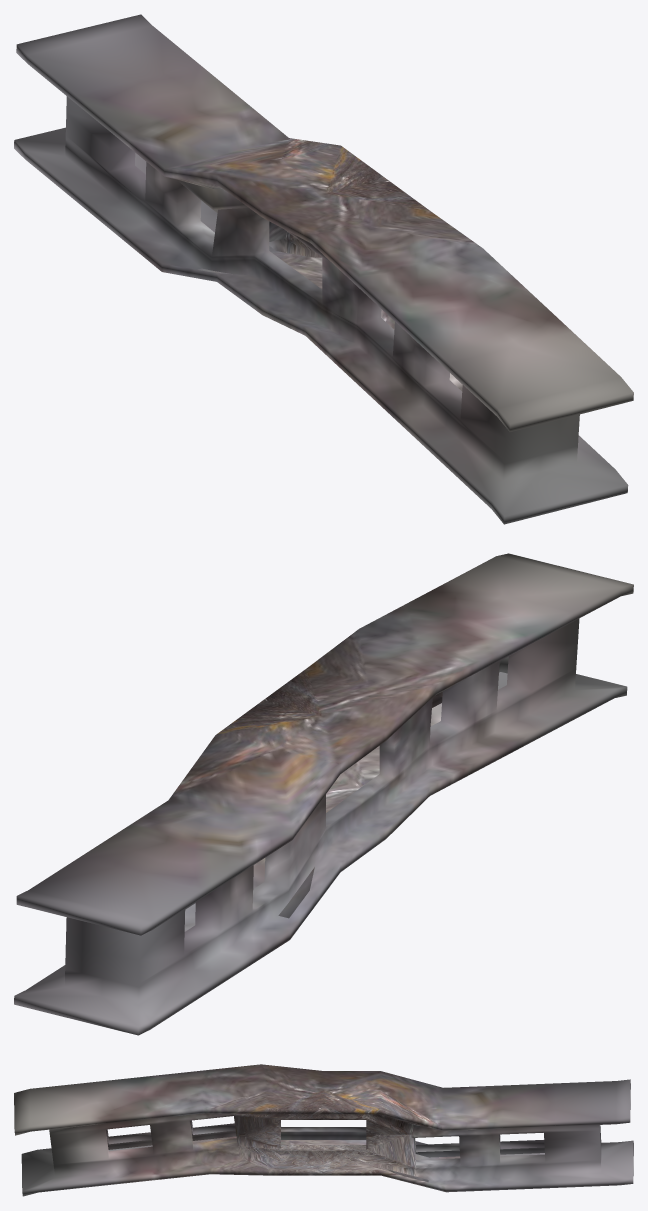
Rendered from metal4.fbx.
3 views of the same model, one above another, from view 1: azimuth 30°, elevation 25°; view 2: azimuth 150°, elevation 25°; view 3: azimuth 270°, elevation 25° (orthographic). The views are drawn at different scales.
Parts seen in each view (by area): view 1: Cube; view 2: Cube; view 3: Cube.
Part boxes in pixels (x1=…): Cube: x1=14, y1=14, x2=633, y2=524; Cube: x1=14, y1=553, x2=633, y2=1035; Cube: x1=14, y1=1064, x2=633, y2=1196.
Bounding box in the file's own units: 1.08 × 1.21 × 7.23.
Materials: 1 (1 with a texture image).
